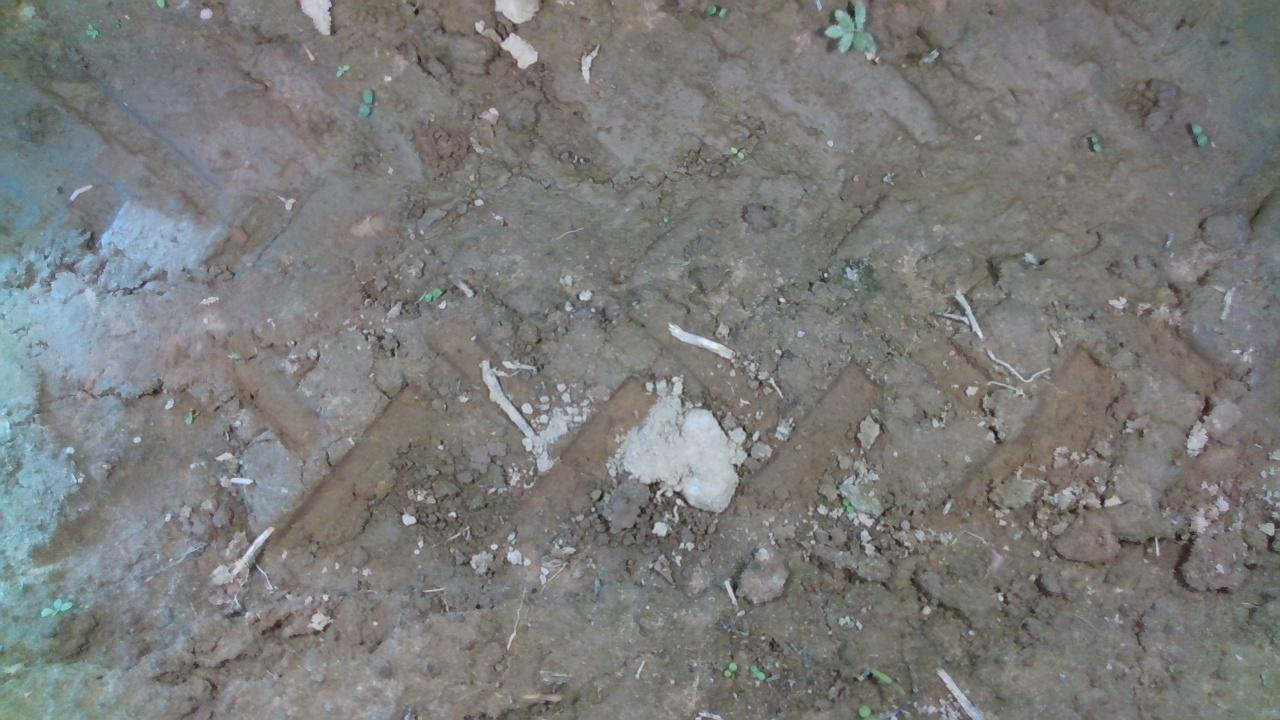weed: (37, 593, 74, 619), (1188, 120, 1208, 148), (355, 86, 373, 117), (421, 286, 442, 304), (333, 61, 353, 79), (748, 663, 765, 680), (1088, 131, 1101, 152), (83, 23, 99, 39), (728, 144, 745, 159), (722, 659, 736, 677), (841, 495, 853, 515)
